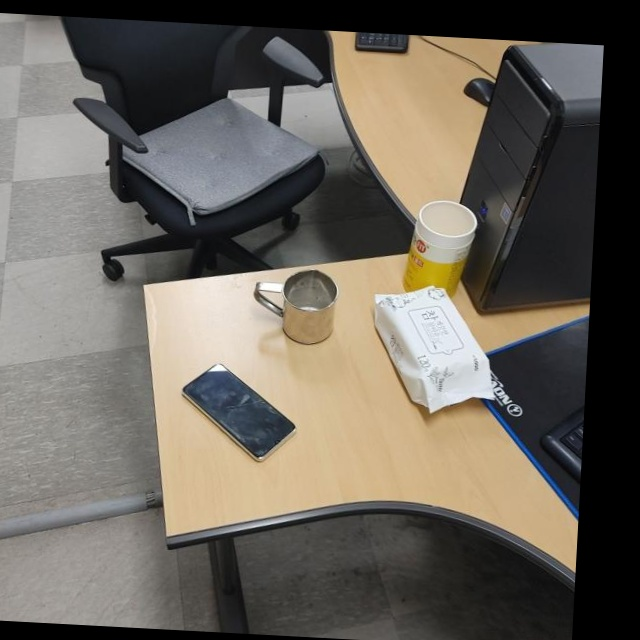cup: (251, 263, 339, 347)
phone: (176, 359, 303, 466)
